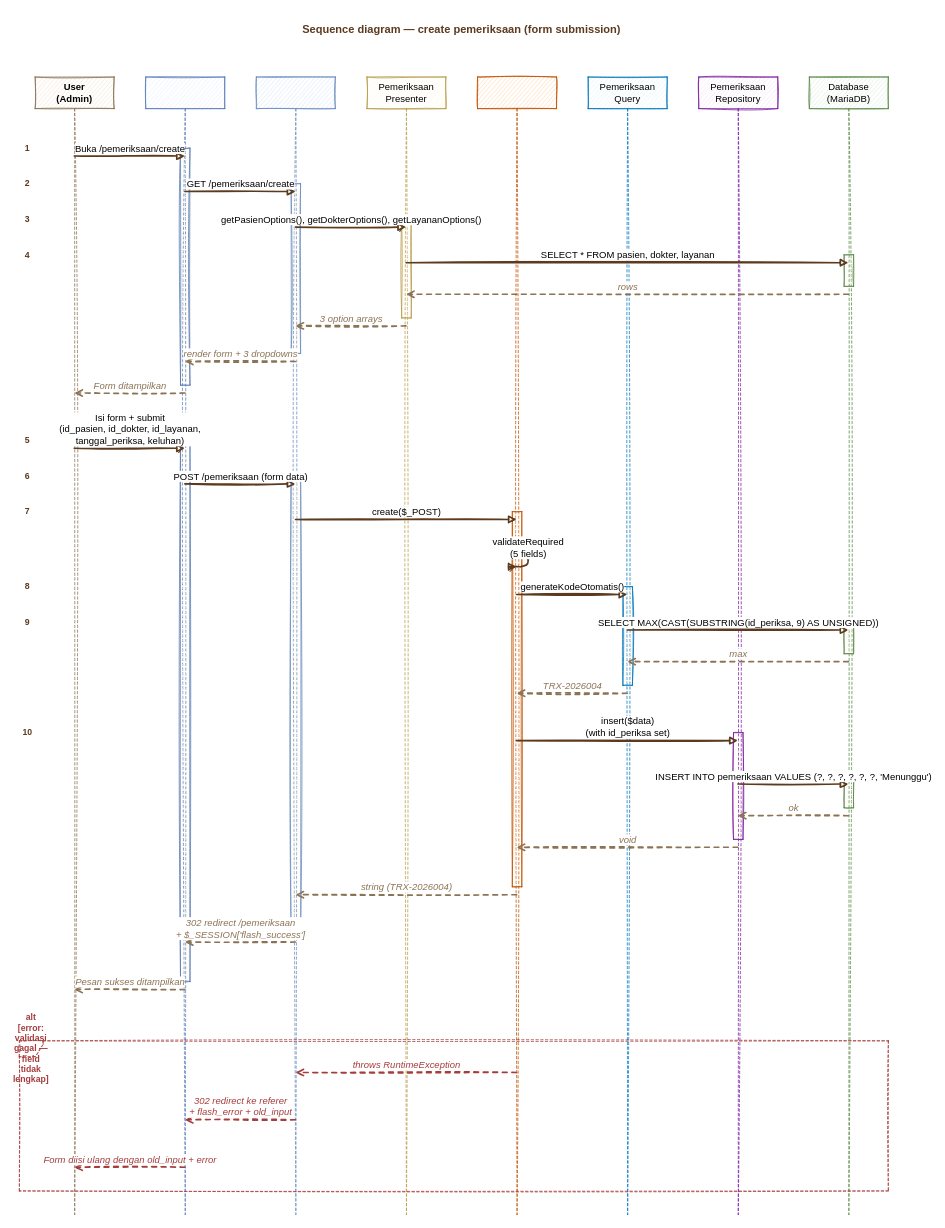
This 945x1228 diagram has some shape labels left out. Each missing label, with the box of its shape:
Browser (form): (145, 76, 225, 1215)
Pemeriksaan (entity): (477, 76, 557, 1215)
Router (public/index.php): (256, 76, 335, 1215)
